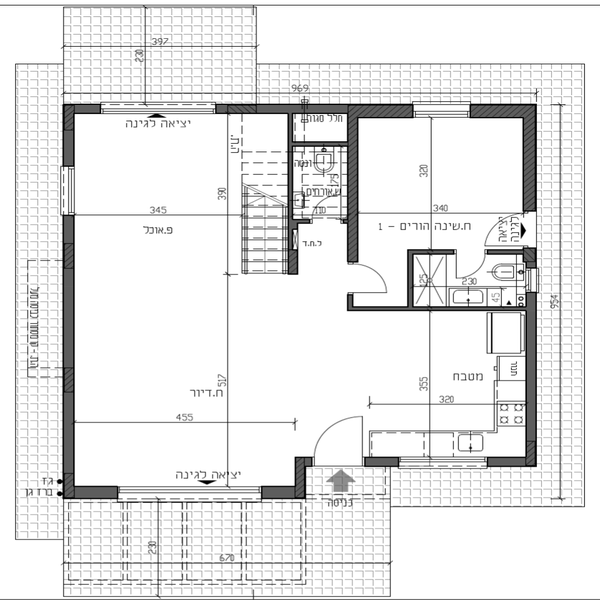door: (310, 418, 367, 469), (346, 258, 390, 294), (455, 242, 489, 281), (309, 193, 353, 221)
room: (57, 267, 307, 508), (340, 95, 545, 315), (62, 95, 312, 274), (336, 298, 541, 473)
wall: (58, 214, 76, 497), (217, 100, 417, 121), (341, 109, 362, 260), (285, 113, 302, 278), (343, 303, 528, 318), (524, 293, 540, 465), (471, 99, 539, 122), (523, 121, 537, 213), (73, 484, 120, 504), (408, 244, 455, 264), (405, 247, 421, 303), (295, 448, 313, 497), (65, 103, 77, 167), (486, 242, 526, 258), (265, 484, 300, 499), (491, 454, 526, 469), (366, 453, 404, 466)
window: (123, 486, 265, 506), (102, 96, 212, 114), (403, 455, 490, 474), (413, 97, 474, 124), (59, 164, 77, 210)
